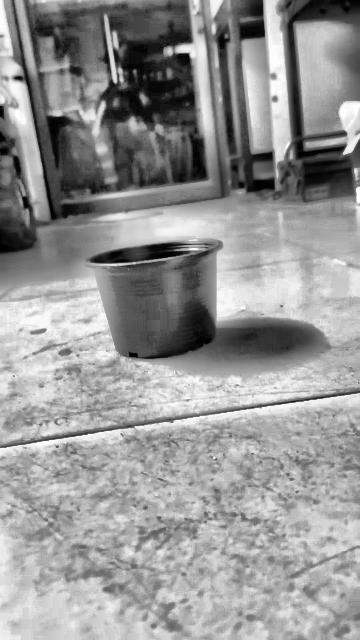pot: (85, 240, 221, 359)
